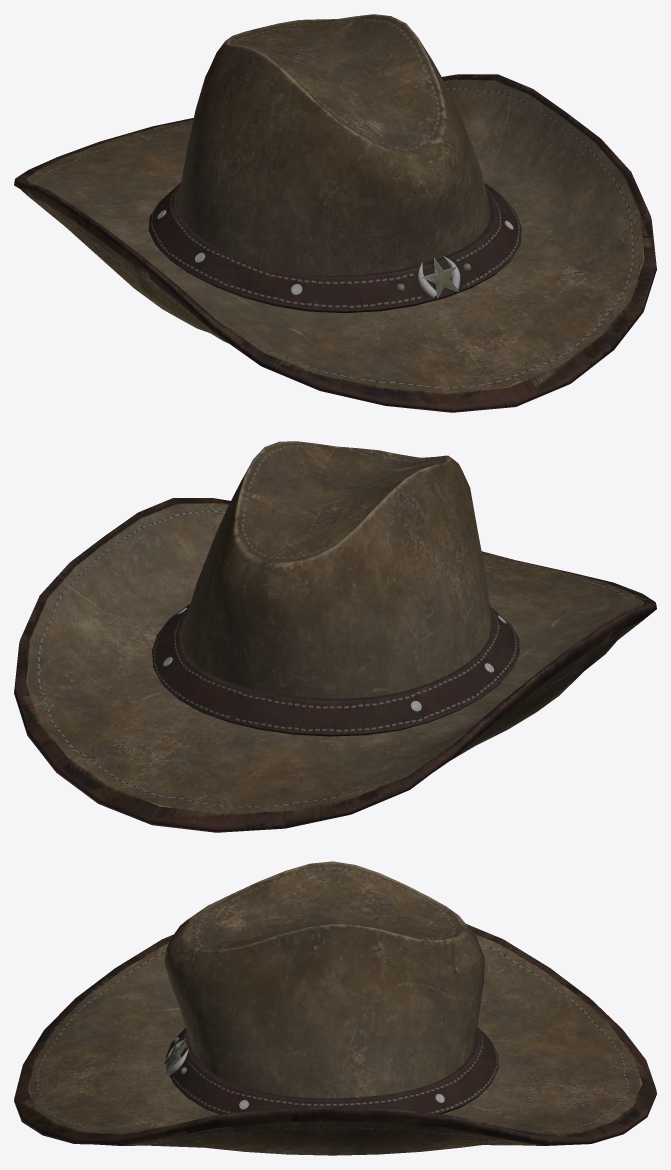
Rendered from Hat3-3.glb.
3 renders of one model, top to bottom at view 1: azimuth 30°, elevation 25°; view 2: azimuth 150°, elevation 25°; view 3: azimuth 270°, elevation 25°, orthographic. The views are drawn at different scales.
Visible parts, largest first — view 1: Hat; view 2: Hat; view 3: Hat.
Boxes of the visible parts, box(x1,y1,x2,y2) form: Hat: box(14, 14, 656, 412); Hat: box(14, 441, 656, 832); Hat: box(14, 861, 656, 1155).
Size of the model in its own units: 1.64 by 0.7908 by 2.2.
Materials: 1 (1 with a texture image).
